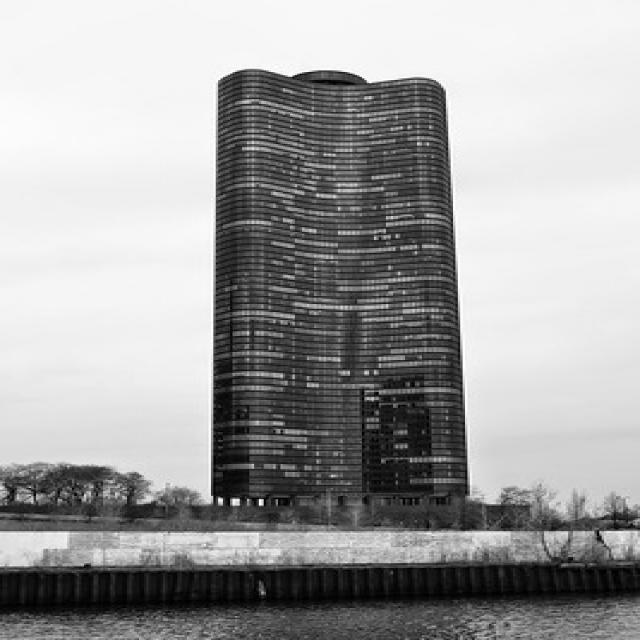Normal_building: (200, 62, 478, 526)
